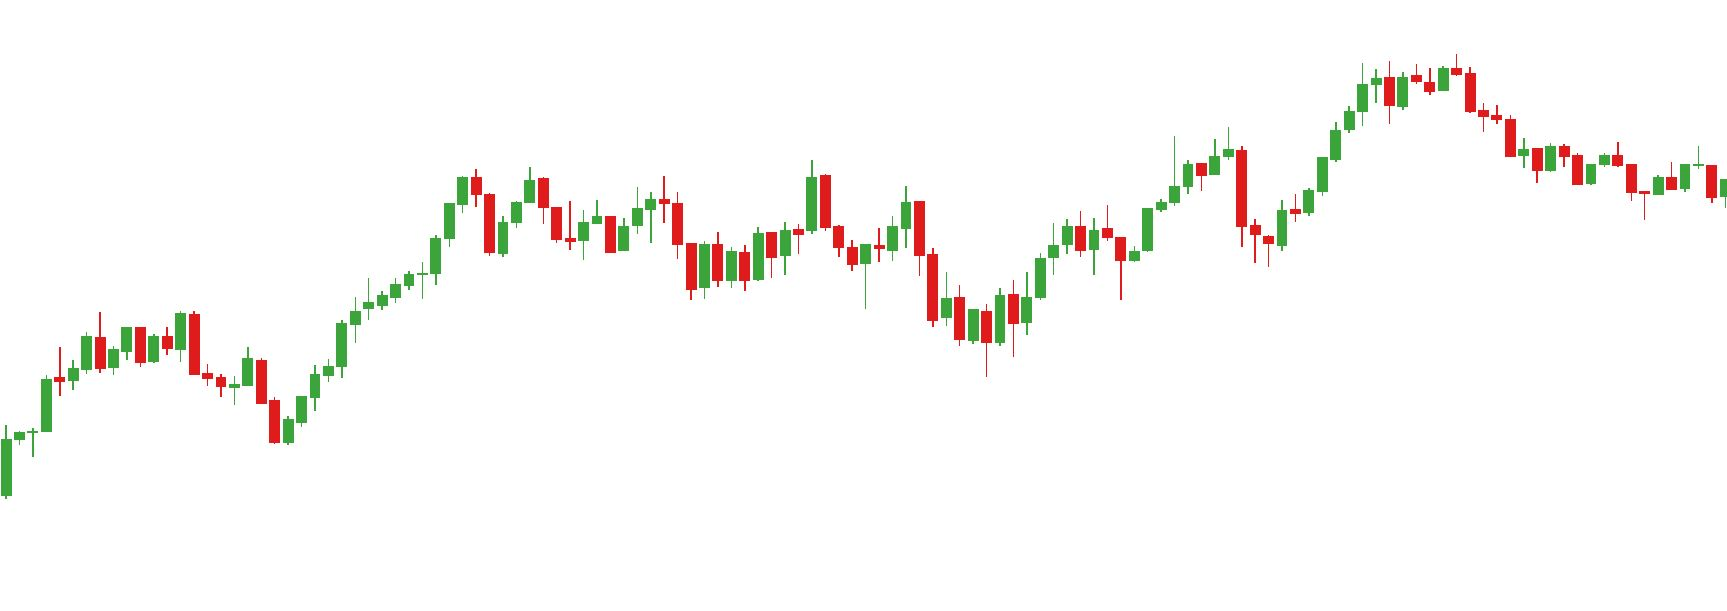sell: (658, 161, 834, 266), (468, 166, 551, 234)
